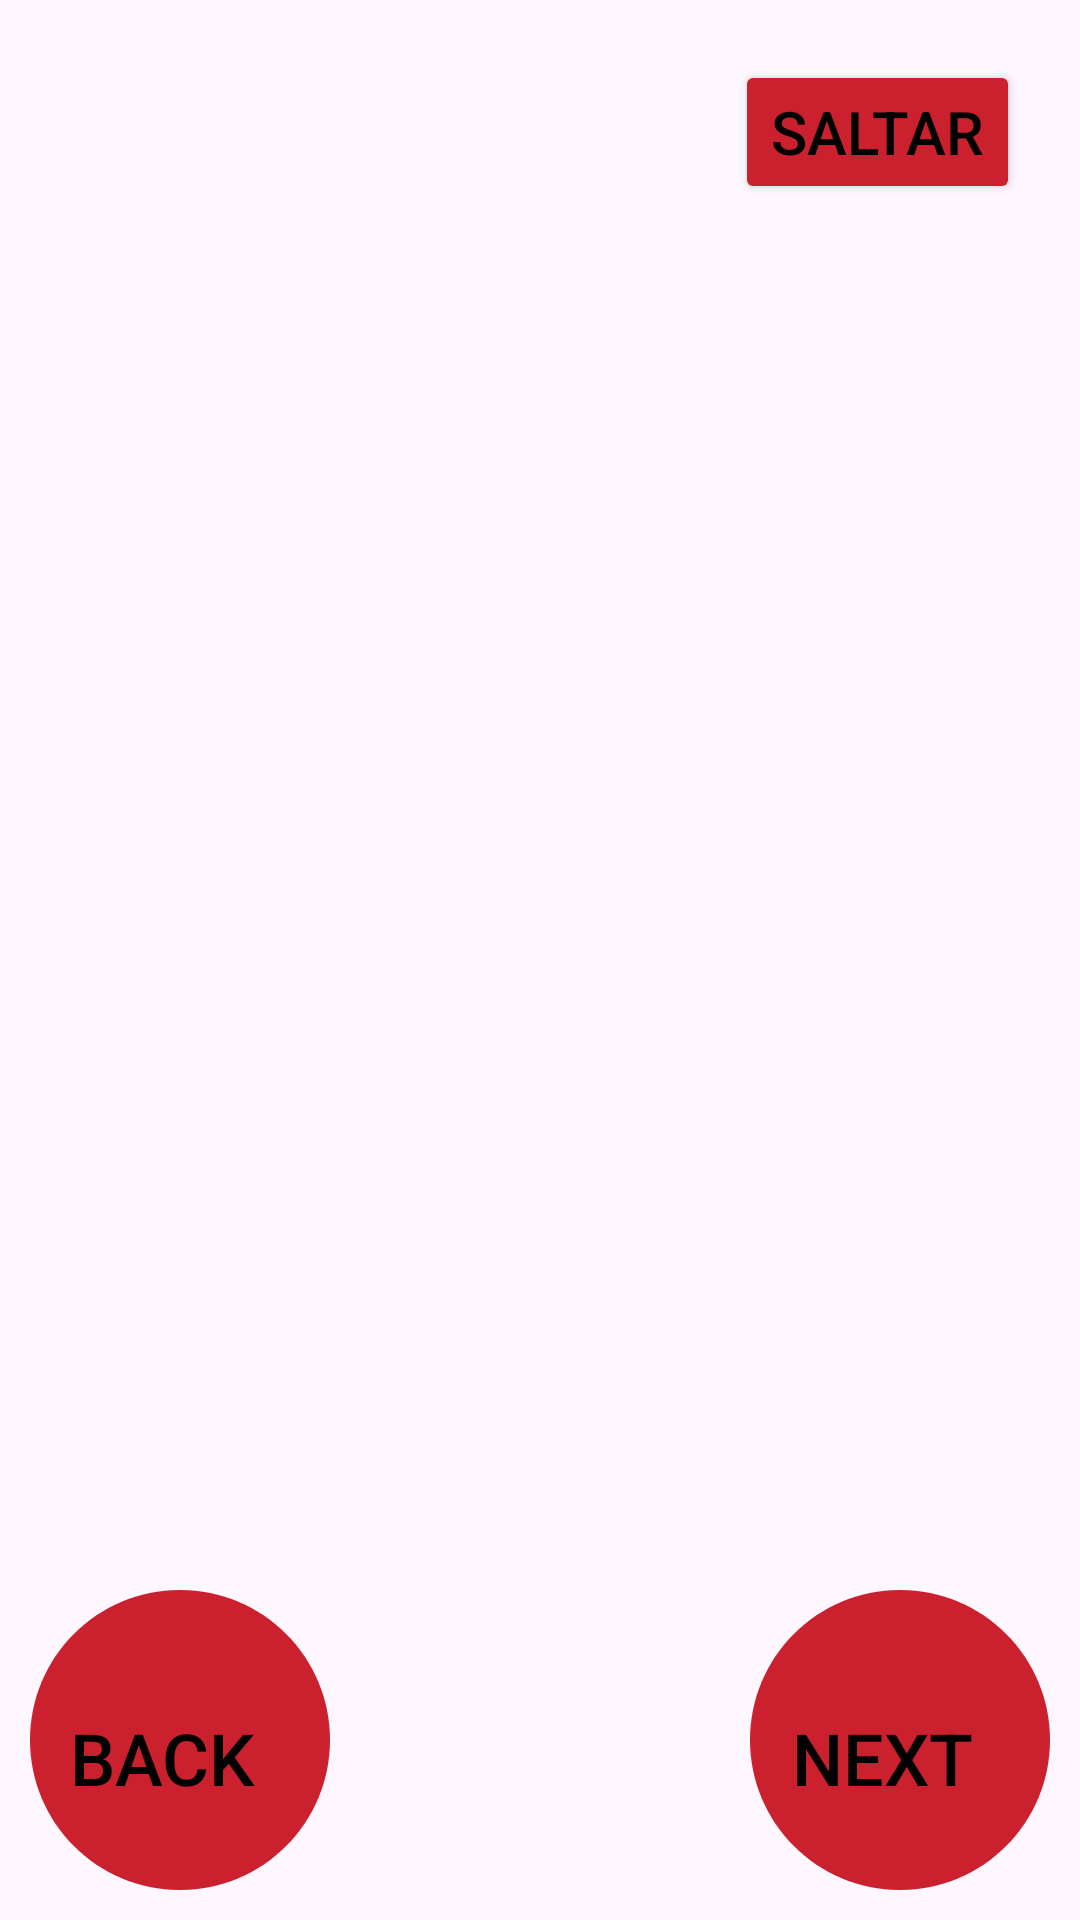

Where icons sit on this 1080px x 1920px app screen, as (x1, y1, x2, y2):
circle: (30, 1590, 330, 1890), (750, 1590, 1050, 1890)
